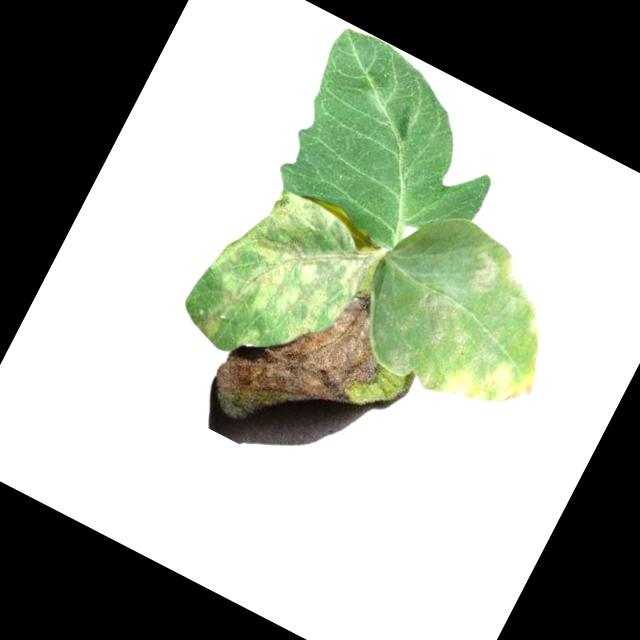Late_blight: (172, 170, 383, 394), (201, 245, 411, 468), (438, 334, 540, 428), (461, 240, 542, 316), (412, 281, 463, 326)
